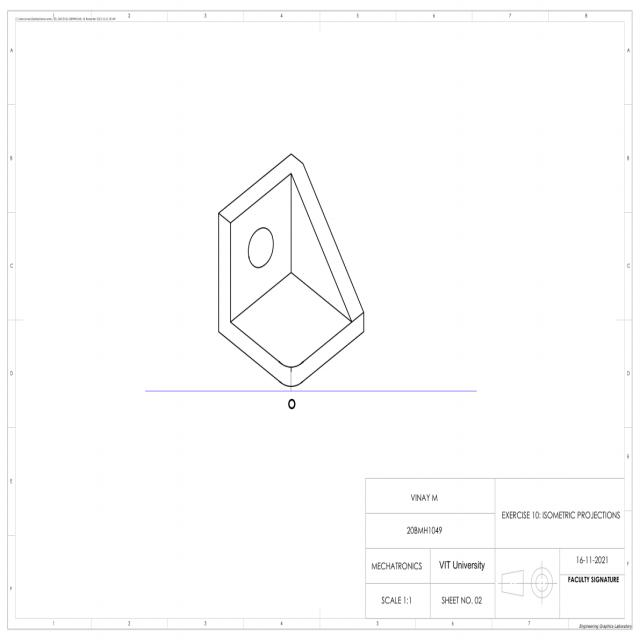Drawings: (206, 147, 373, 418)
